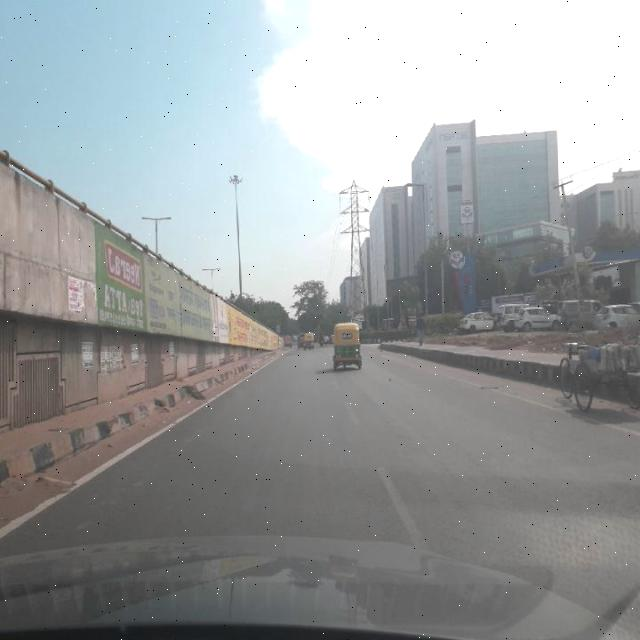D44: (369, 448, 436, 534)
